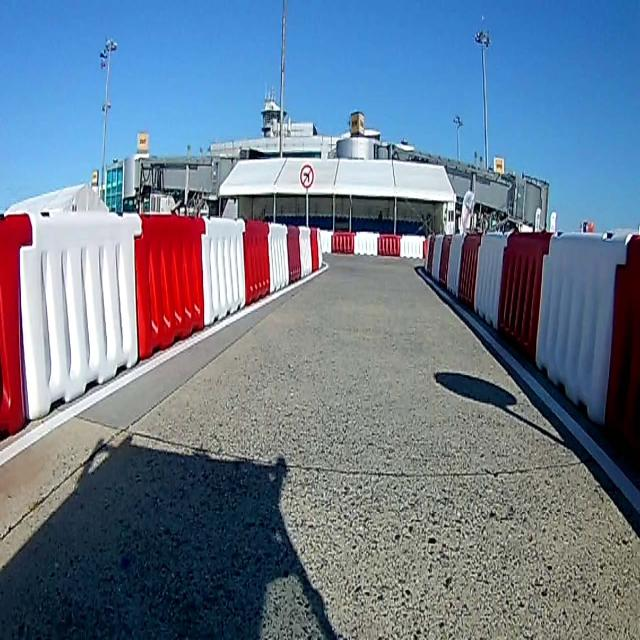soladonulmez: (300, 165, 314, 187)
